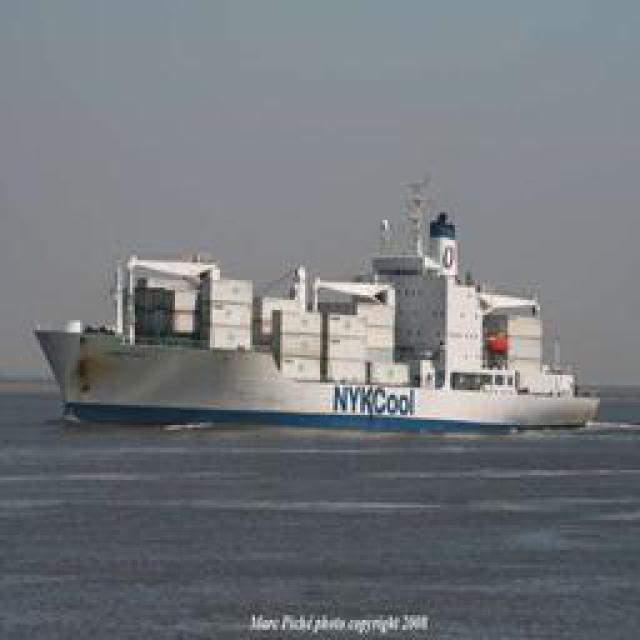Ship: (36, 270, 591, 435)
